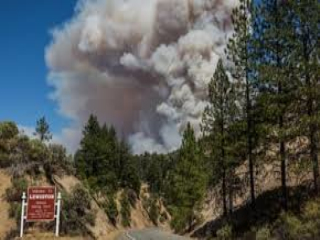smoke: (64, 4, 227, 141)
